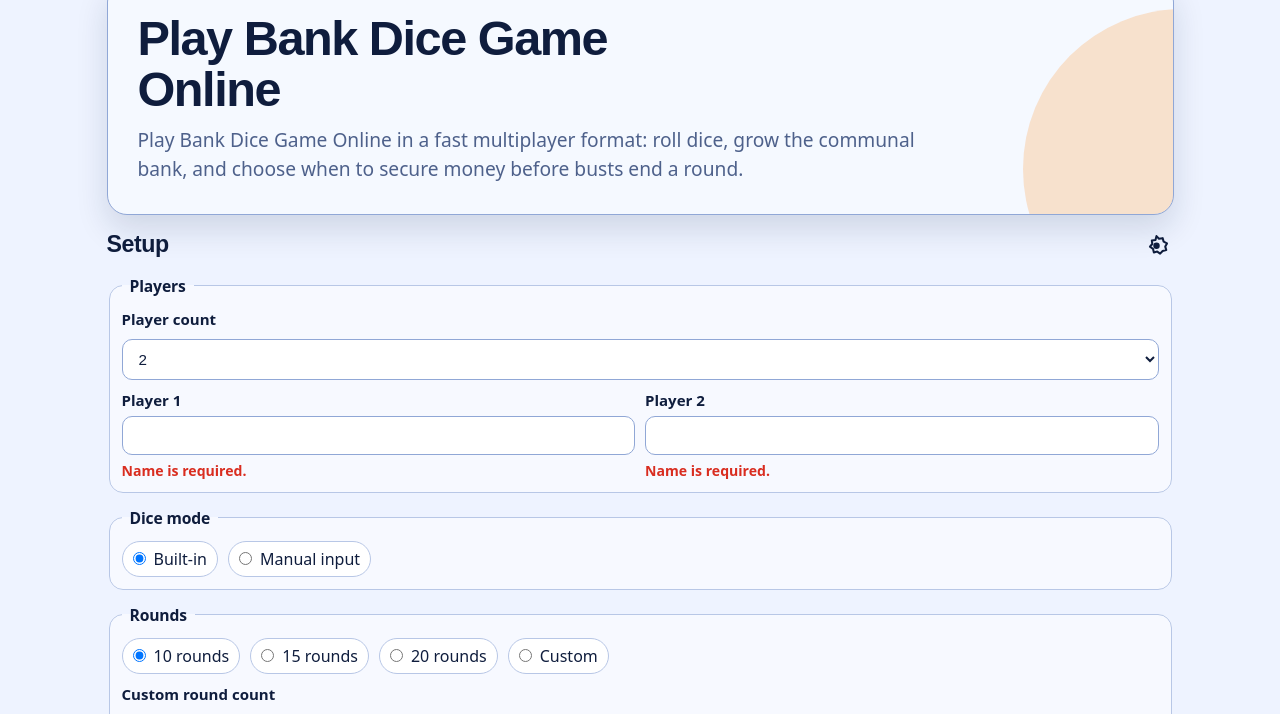
Test case: AppShell › skips built-in animation when reduced motion is preferred
Type "Alice" into the field labelled "Player 1 Name is required." at (378, 435), box [122,416,635,455]
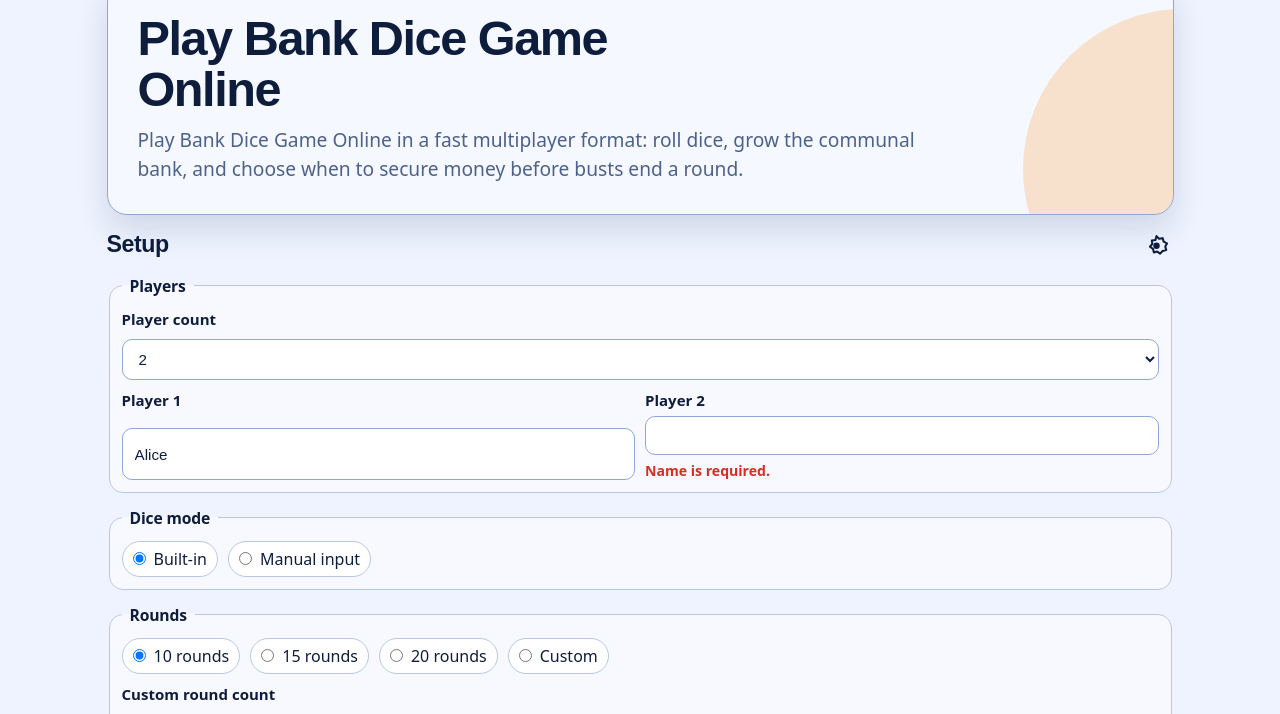
Type "Bob" into the field labelled "Player 2 Name is required." at (902, 435), box [645,416,1158,455]
(page scrolled)
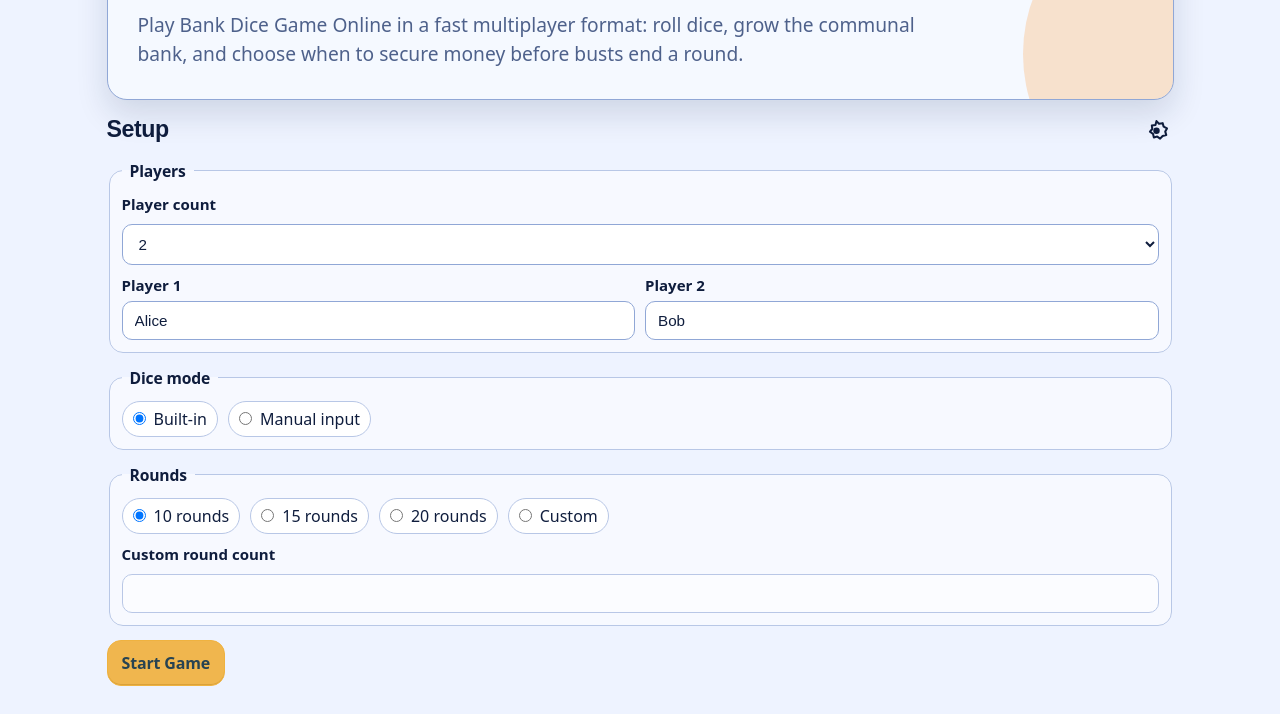
Click the button "Start Game" at (166, 663), box [106,640,225,686]
(page scrolled)
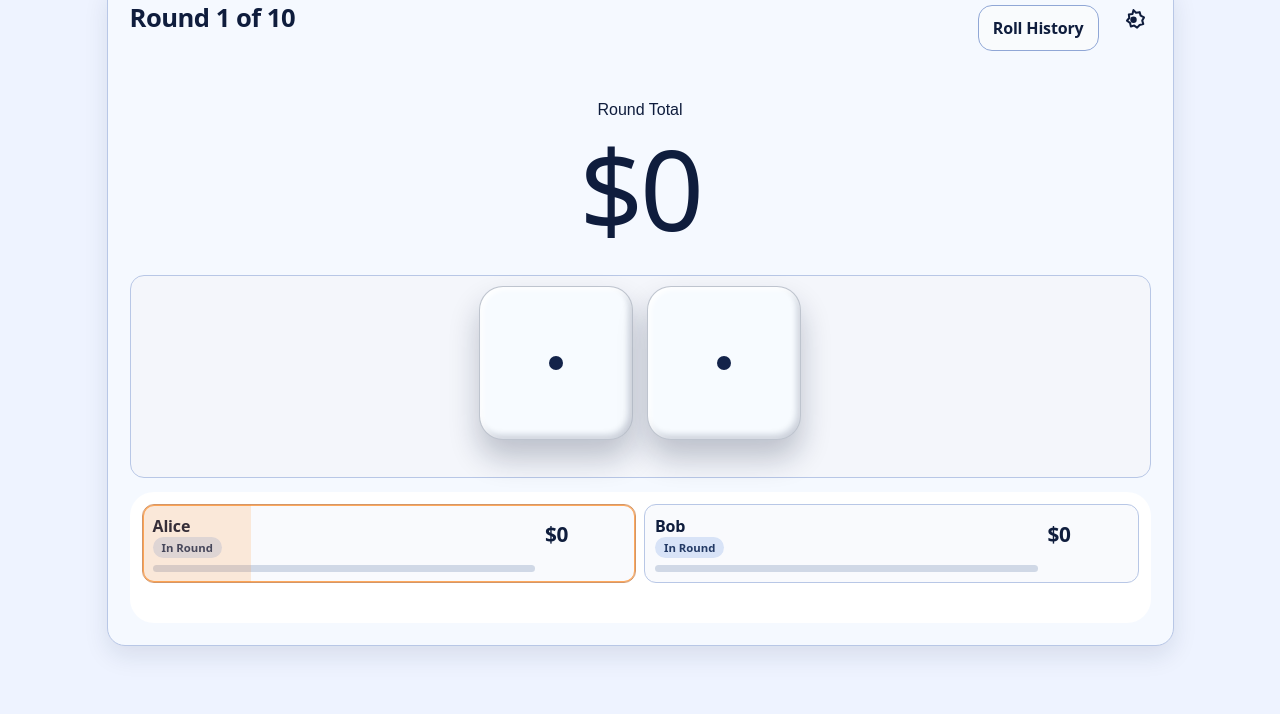
Click the button named "Roll" at (640, 377), box [140,286,1140,467]
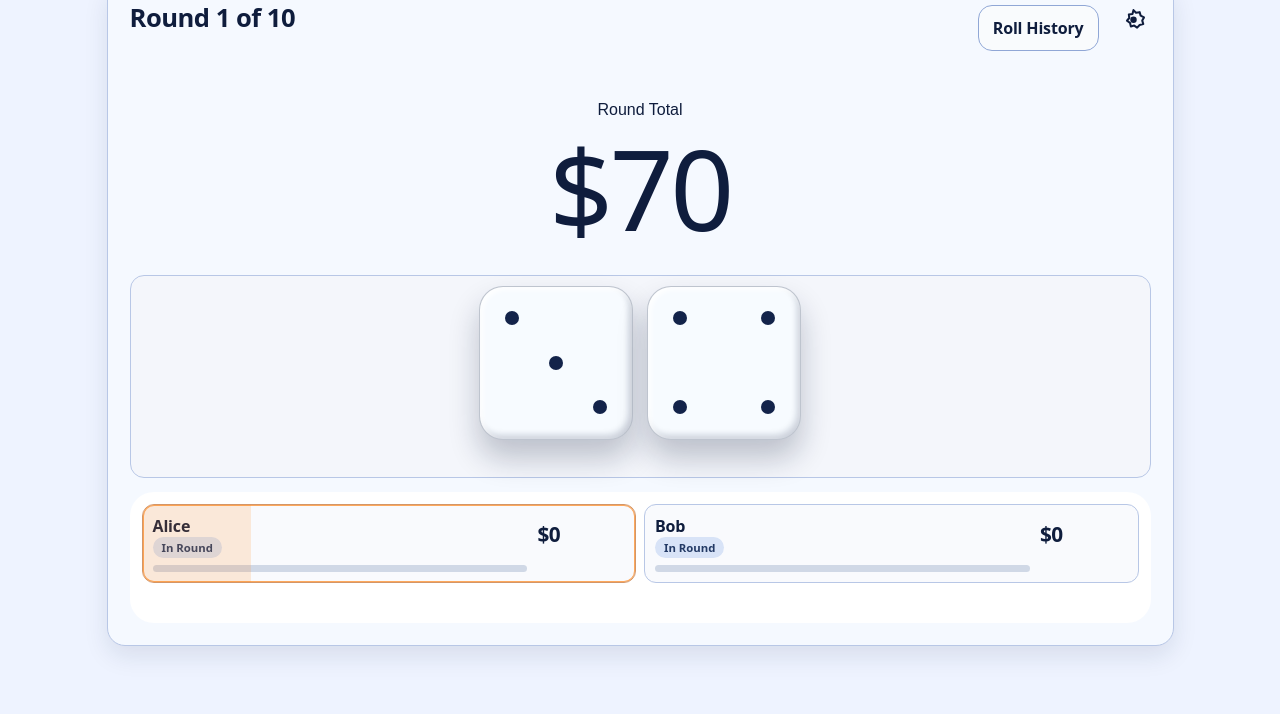
Check: the button "Alice In Round $0" is disabled, box [142,504,636,583]
Check: the text with test id "communal-bank-total" shows "70", box [610,111,731,264]
